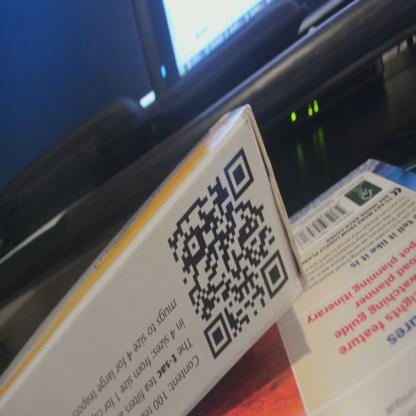barcode: (290, 199, 350, 248)
qr: (165, 145, 294, 353)
